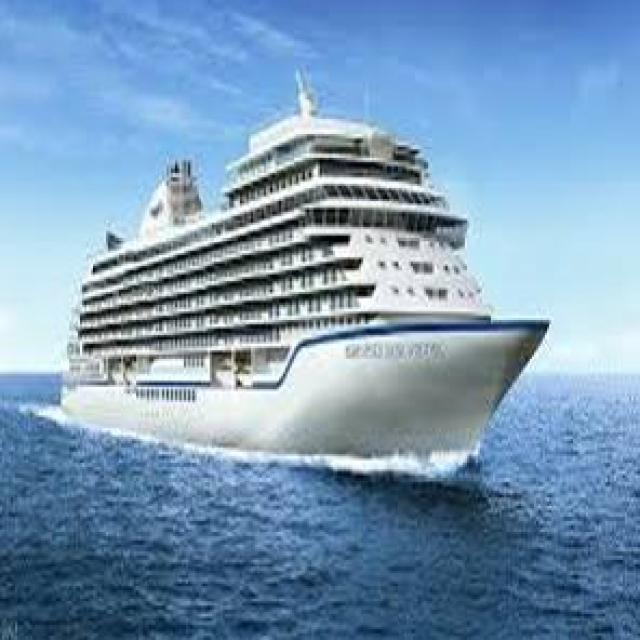passenger ship: (57, 100, 547, 458)
